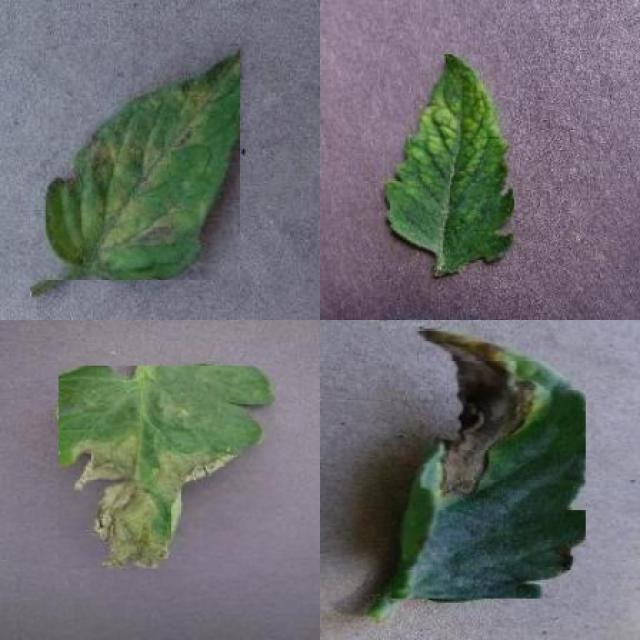Early Blight: (392, 328, 585, 598)
Late Blight: (58, 365, 276, 569)
Leaf Mold: (46, 46, 240, 280)
Mosaic Virus: (383, 54, 514, 266)
